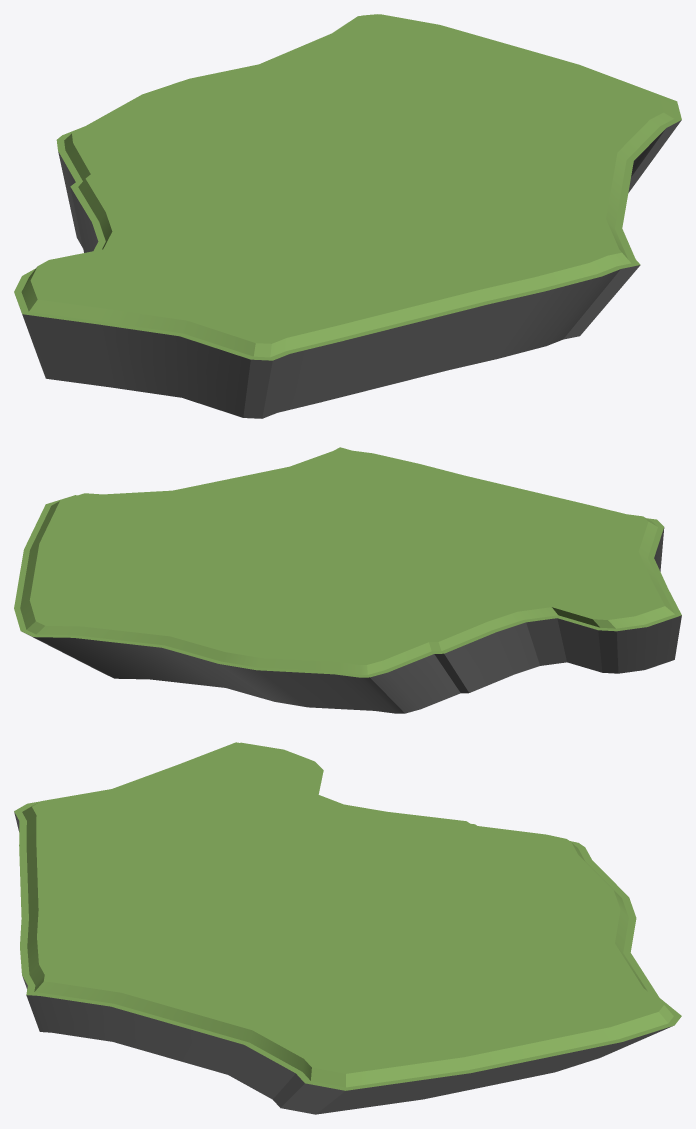
The model's file is Plateau_Grass_02.fbx.
3 views of the same model, one above another, from view 1: azimuth 30°, elevation 25°; view 2: azimuth 150°, elevation 25°; view 3: azimuth 270°, elevation 25° (orthographic). The views are drawn at different scales.
Visible parts, largest first — view 1: Plateau_Grass_02; view 2: Plateau_Grass_02; view 3: Plateau_Grass_02.
Boxes of the visible parts, x1=… form: Plateau_Grass_02: x1=14, y1=14, x2=681, y2=418; Plateau_Grass_02: x1=14, y1=447, x2=681, y2=713; Plateau_Grass_02: x1=14, y1=742, x2=681, y2=1114.
Bounding box in the file's own units: 1251 × 120 × 1013.
